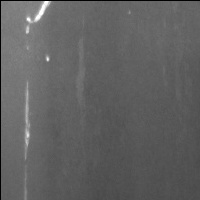scratches: (21, 79, 34, 161), (24, 1, 53, 36)
